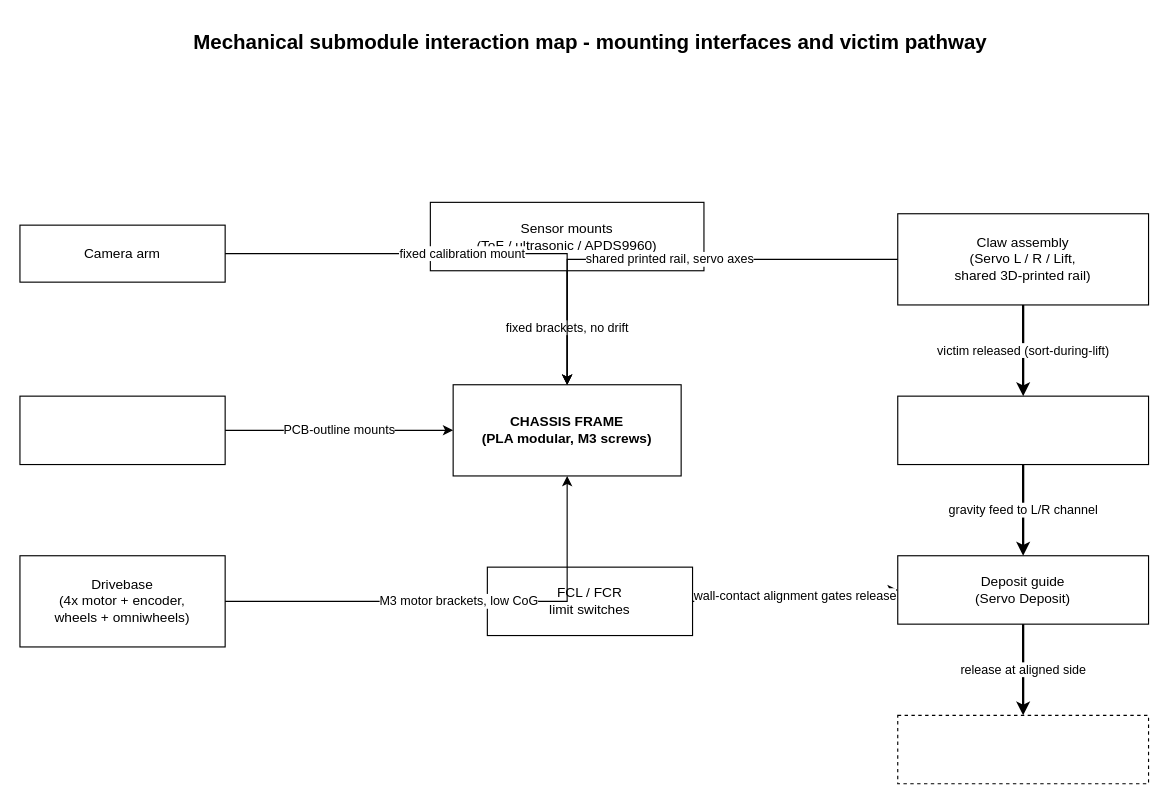
Image size: 1169x804. Some labels were removed from this diagram. Here are the shapes that lost their labels. From the top down, the centre of each, then its label:
At [122,430]: "Electronics tray (PCB / RPi / Teensy)".
At [1023,430]: "Storage channel (Servo Sort)".
At [1023,749]: "Deposit zone (red / green side)".
